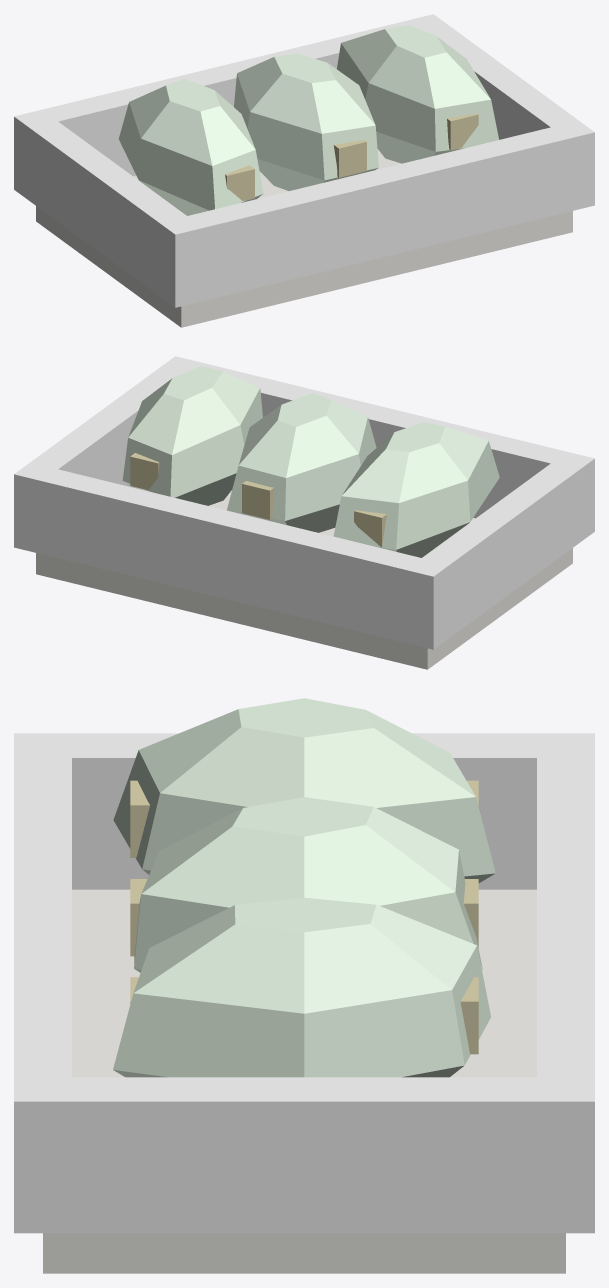
Rendered from herbs.glb.
3 views of the same model, one above another, from view 1: azimuth 30°, elevation 25°; view 2: azimuth 150°, elevation 25°; view 3: azimuth 270°, elevation 25° (orthographic). The views are drawn at different scales.
Visible parts, largest first — view 1: herbs; view 2: herbs; view 3: herbs.
Part boxes in pixels (box(x1,y1,x2,y2)): herbs: box(14, 14, 594, 327); herbs: box(14, 356, 594, 669); herbs: box(14, 698, 594, 1273).
Size of the model in its own units: 1.88 by 0.6775 by 1.25.
